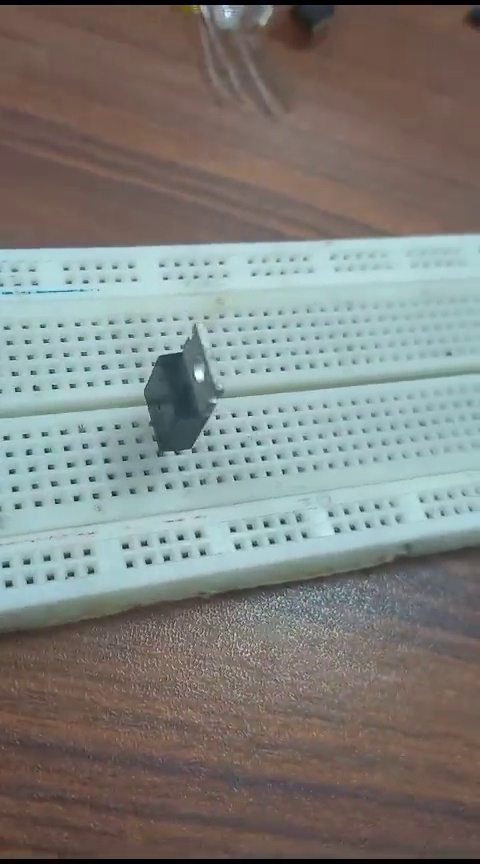voltage regulator: (114, 328, 232, 460)
